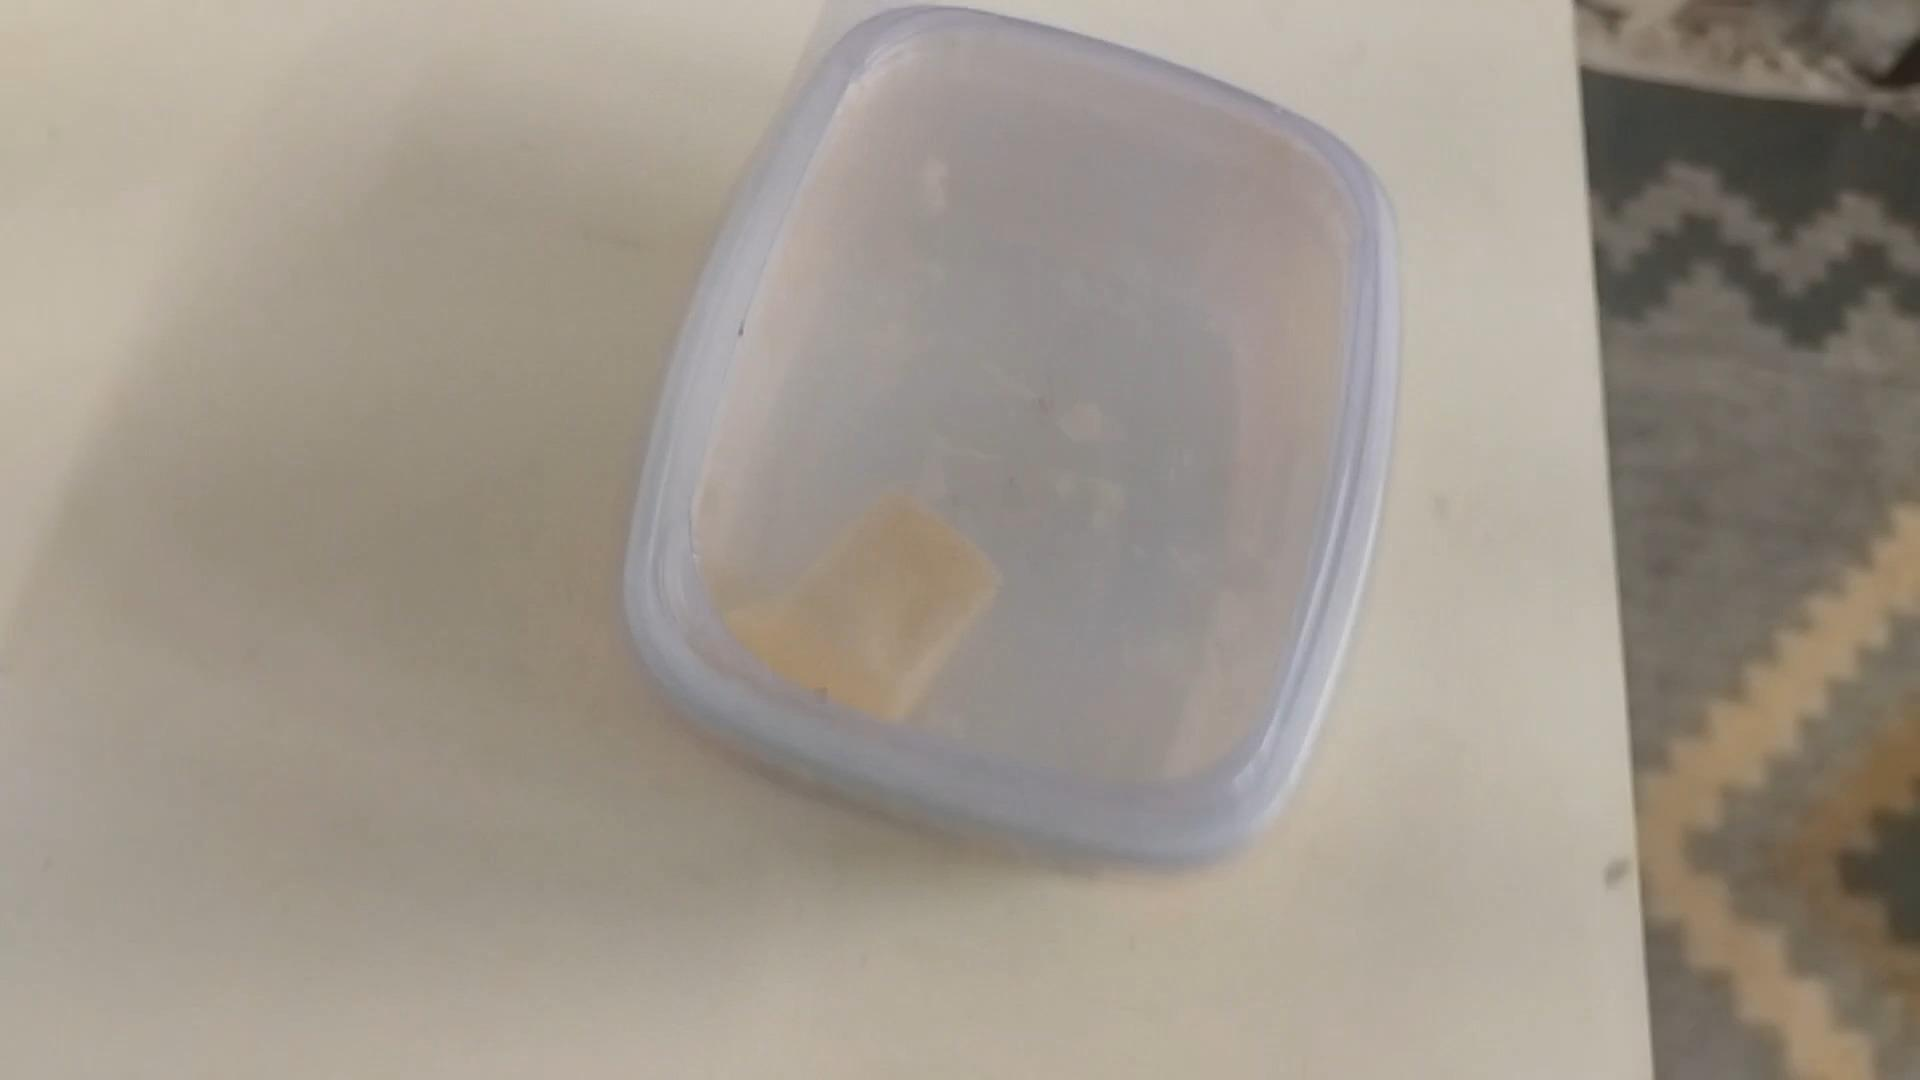butter: (618, 9, 1393, 877)
